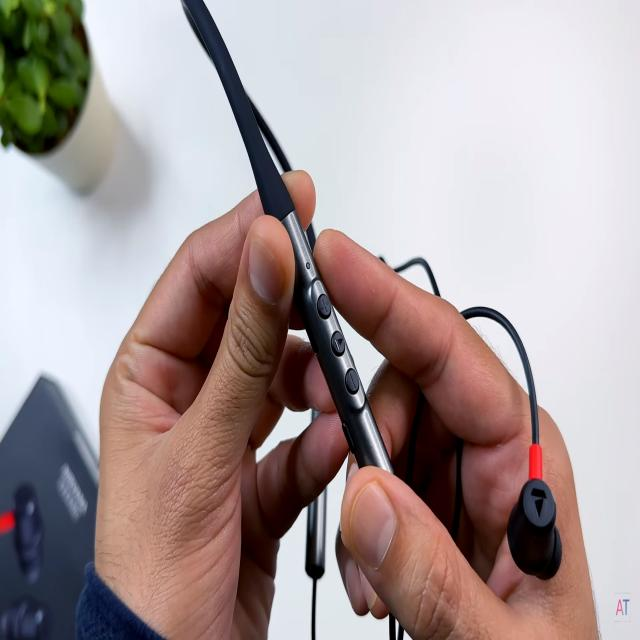Neckband: (180, 0, 563, 640)
